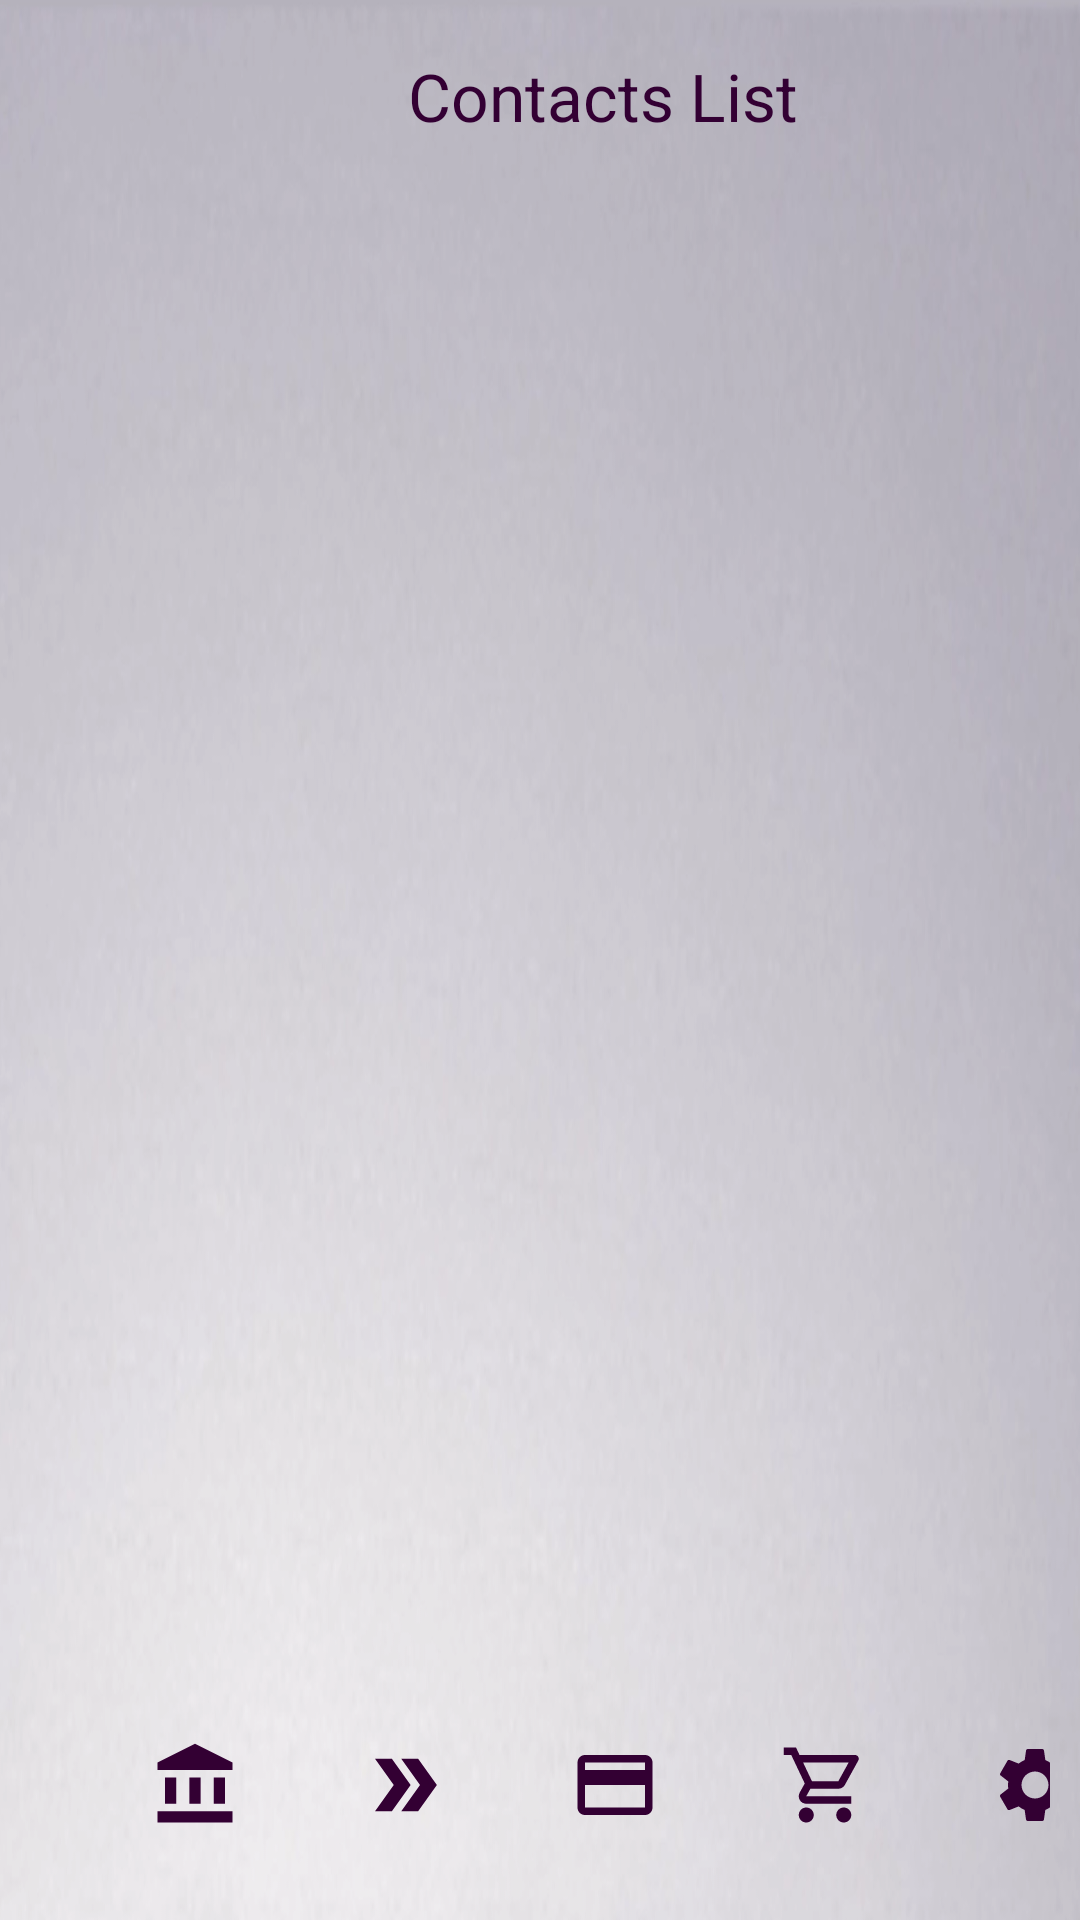

Point at icon controls on the screen. Image size 1080w x 1920h, points as point (x, y).
Balance Page Icon: point (195, 1783)
cards icon: point (615, 1785)
products icon: point (821, 1785)
Transfers Icon: point (406, 1785)
